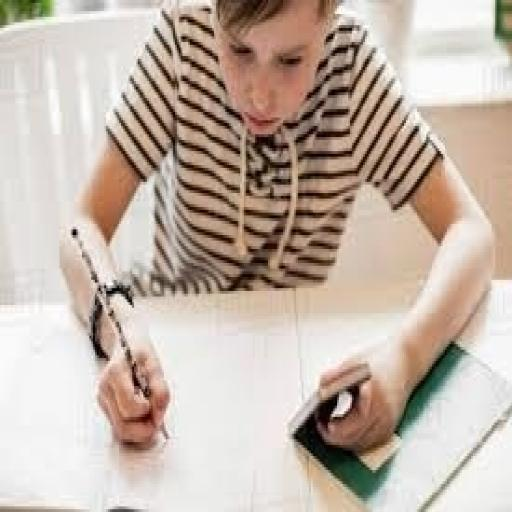texting: (56, 0, 495, 459)
